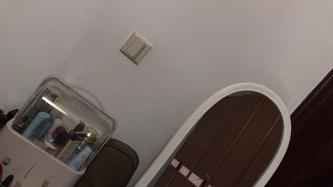switch: (131, 37, 141, 59)
